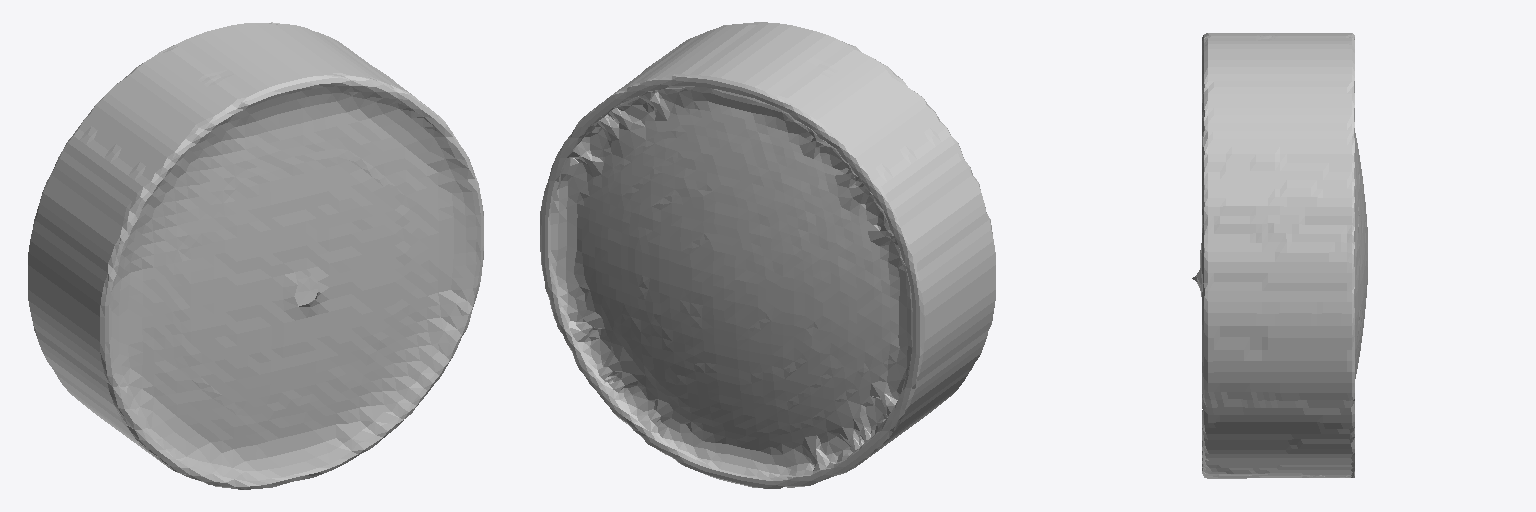
Rendered from ceiling_lamp_15650_object1.obj.
The picture shows the model from 3 angles: view 1: azimuth 30°, elevation 25°; view 2: azimuth 150°, elevation 25°; view 3: azimuth 270°, elevation 25°; orthographic projection.
Parts seen in each view (by area): view 1: aligned_light; view 2: aligned_light; view 3: aligned_light.
Boxes of the visible parts, x1,y1,x2,y2 form: aligned_light: [28, 22, 483, 489]; aligned_light: [540, 22, 995, 488]; aligned_light: [1192, 33, 1367, 478].
Bounding box in the file's own units: 0.5 × 0.5 × 0.199.